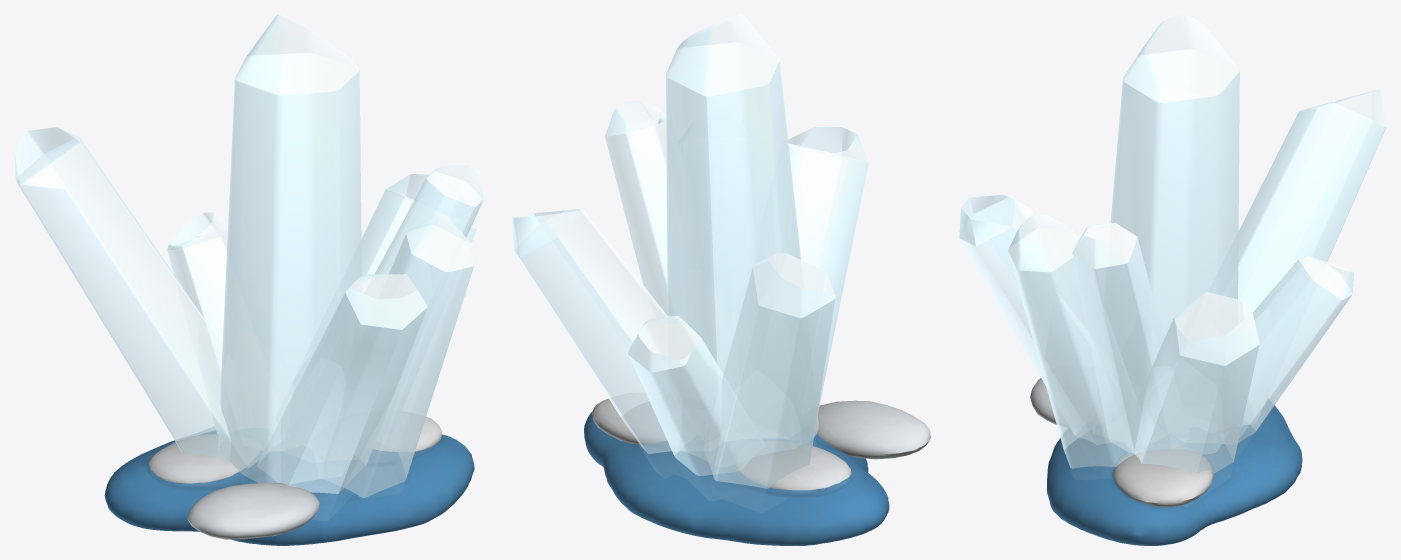
The model's file is frost_ice_crystal.glb.
The picture shows the model from 3 angles, left to right: view 1: azimuth 30°, elevation 25°; view 2: azimuth 150°, elevation 25°; view 3: azimuth 270°, elevation 25°; orthographic projection. The views are drawn at different scales.
Parts seen in each view (by area): view 1: frost_ice_crystal; view 2: frost_ice_crystal; view 3: frost_ice_crystal.
Part boxes in pixels (x1,y1,x2,y2): frost_ice_crystal: (14,14,483,545); frost_ice_crystal: (512,14,930,545); frost_ice_crystal: (959,14,1386,545).
Bounding box in the file's own units: 5.01 × 6 × 5.03.
